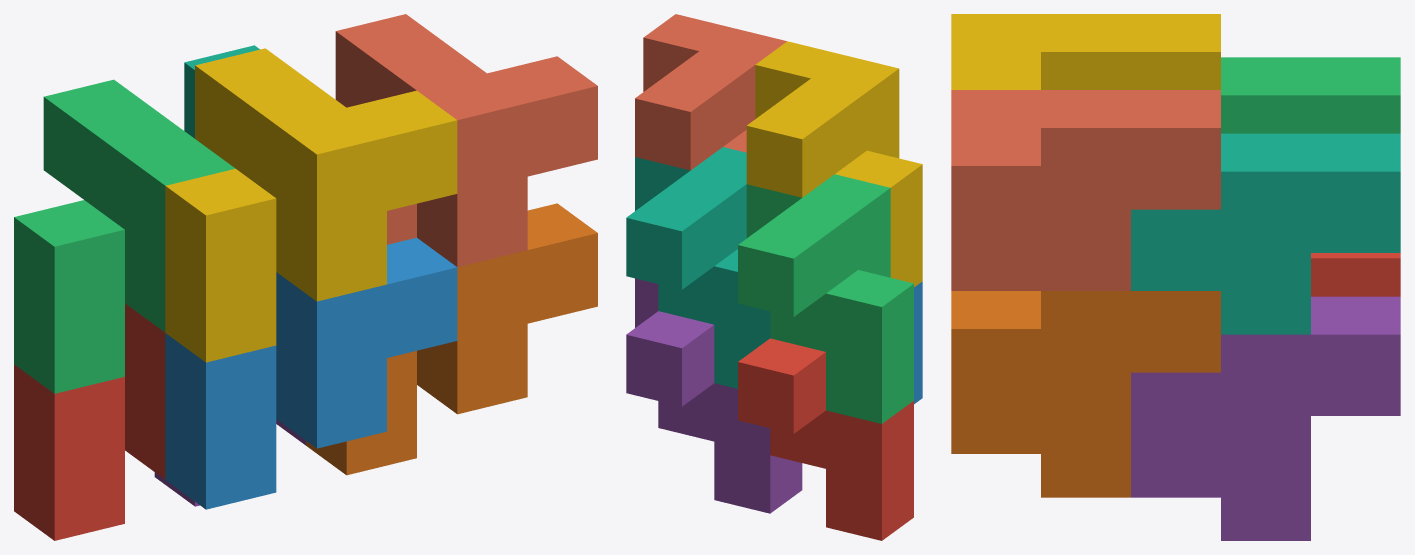
The model's file is tiling.obj.
3 renders of one model, left to right at view 1: azimuth 30°, elevation 25°; view 2: azimuth 150°, elevation 25°; view 3: azimuth 270°, elevation 25°, orthographic. The views are drawn at different scales.
Visible parts, largest first — view 1: copy_1_domain_4, copy_1_domain_2, copy_1_domain_3, copy_1_domain_8, copy_1_domain_6, copy_1_domain_1, copy_1_domain_7; view 2: copy_1_domain_3, copy_1_domain_4, copy_1_domain_7, copy_1_domain_1, copy_1_domain_5, copy_1_domain_8, copy_1_domain_2; view 3: copy_1_domain_8, copy_1_domain_5, copy_1_domain_6, copy_1_domain_7, copy_1_domain_4, copy_1_domain_3, copy_1_domain_1.
Part boxes in pixels (bbox=[...]): copy_1_domain_4: bbox=[165, 48, 457, 362]; copy_1_domain_2: bbox=[165, 237, 457, 509]; copy_1_domain_3: bbox=[14, 79, 234, 393]; copy_1_domain_8: bbox=[335, 14, 597, 267]; copy_1_domain_6: bbox=[306, 203, 597, 475]; copy_1_domain_1: bbox=[14, 303, 165, 540]; copy_1_domain_7: bbox=[184, 45, 259, 138]; copy_1_domain_3: bbox=[738, 174, 913, 423]; copy_1_domain_4: bbox=[746, 41, 922, 287]; copy_1_domain_7: bbox=[626, 147, 770, 388]; copy_1_domain_1: bbox=[738, 338, 913, 540]; copy_1_domain_5: bbox=[626, 278, 802, 513]; copy_1_domain_8: bbox=[635, 14, 786, 170]; copy_1_domain_2: bbox=[914, 281, 922, 403]; copy_1_domain_8: bbox=[951, 90, 1220, 290]; copy_1_domain_5: bbox=[1131, 296, 1400, 540]; copy_1_domain_6: bbox=[951, 291, 1220, 497]; copy_1_domain_7: bbox=[1131, 133, 1400, 334]; copy_1_domain_4: bbox=[951, 14, 1220, 89]; copy_1_domain_3: bbox=[1221, 57, 1400, 133]; copy_1_domain_1: bbox=[1311, 253, 1400, 296].
Bounding box in the file's own units: 6 × 6 × 5.
